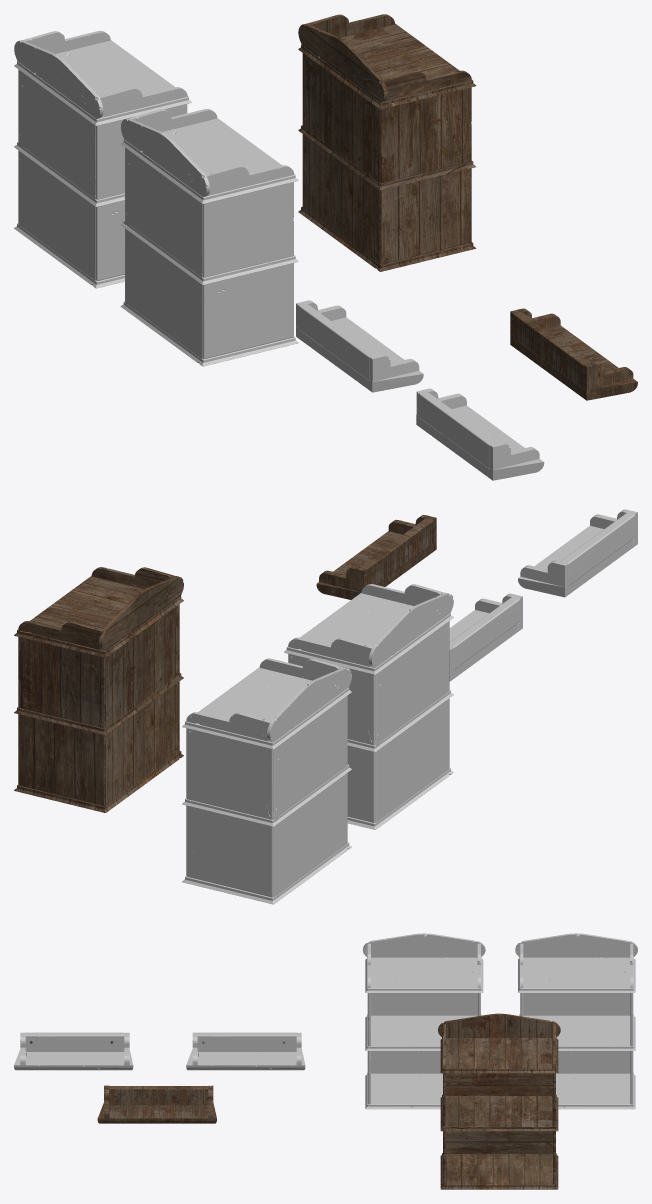
The model's file is Полки.fbx.
3 renders of one model, top to bottom at view 1: azimuth 30°, elevation 25°; view 2: azimuth 150°, elevation 25°; view 3: azimuth 270°, elevation 25°, orthographic. The views are drawn at different scales.
Parts seen in each view (by area): view 1: Cube.011_dmg.004, Cube.014_dmg.003, Cube.011_dmg.002, Cube.001_dmg.008, Cube.001_dmg.012, Cube.001_dmg.003; view 2: Cube.011_dmg.002, Cube.011_dmg.004, Cube.014_dmg.003, Cube.001_dmg.008, Cube.001_dmg.012, Cube.001_dmg.003; view 3: Cube.011_dmg.004, Cube.011_dmg.002, Cube.014_dmg.003, Cube.001_dmg.008, Cube.001_dmg.003, Cube.001_dmg.012.
Boxes of the visible parts, x1,y1,x2,y2 form: Cube.011_dmg.004: [298, 14, 476, 271]; Cube.014_dmg.003: [120, 109, 298, 366]; Cube.011_dmg.002: [14, 30, 191, 288]; Cube.001_dmg.008: [416, 388, 544, 480]; Cube.001_dmg.012: [510, 308, 637, 400]; Cube.001_dmg.003: [296, 300, 423, 392]; Cube.011_dmg.002: [182, 658, 351, 904]; Cube.011_dmg.004: [14, 567, 183, 812]; Cube.014_dmg.003: [284, 584, 453, 829]; Cube.001_dmg.008: [518, 509, 637, 597]; Cube.001_dmg.012: [316, 515, 436, 599]; Cube.001_dmg.003: [449, 593, 522, 681]; Cube.011_dmg.004: [438, 1013, 560, 1189]; Cube.011_dmg.002: [515, 933, 637, 1109]; Cube.014_dmg.003: [362, 933, 485, 1109]; Cube.001_dmg.008: [14, 1032, 133, 1070]; Cube.001_dmg.003: [186, 1032, 305, 1070]; Cube.001_dmg.012: [97, 1085, 216, 1123].
Bounding box in the file's own units: 1411 × 826 × 3265.
